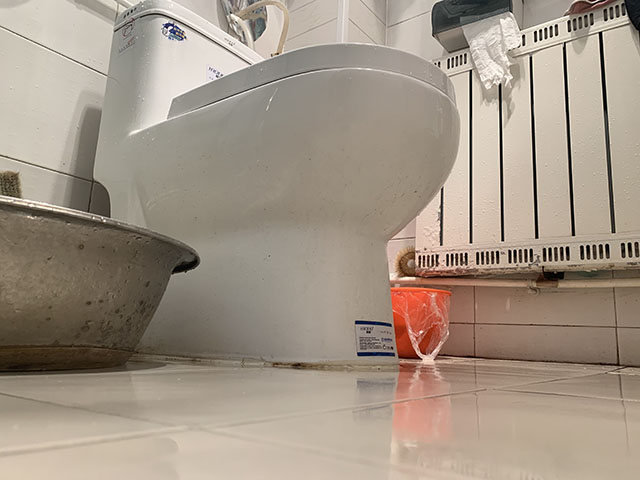closestool: (91, 1, 463, 374)
trashcan: (388, 287, 453, 359)
